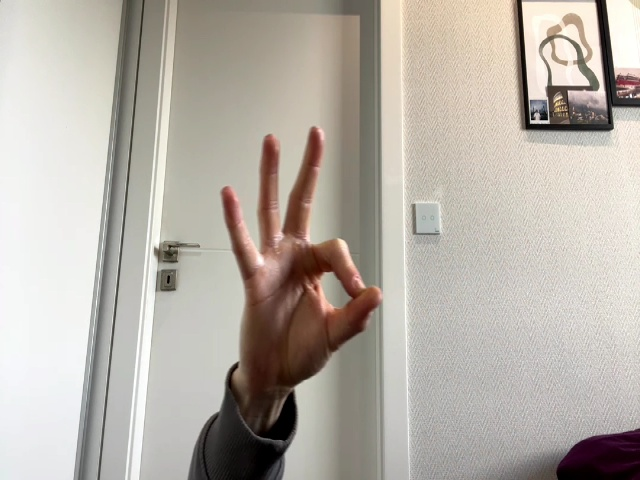O: (220, 126, 381, 372)
